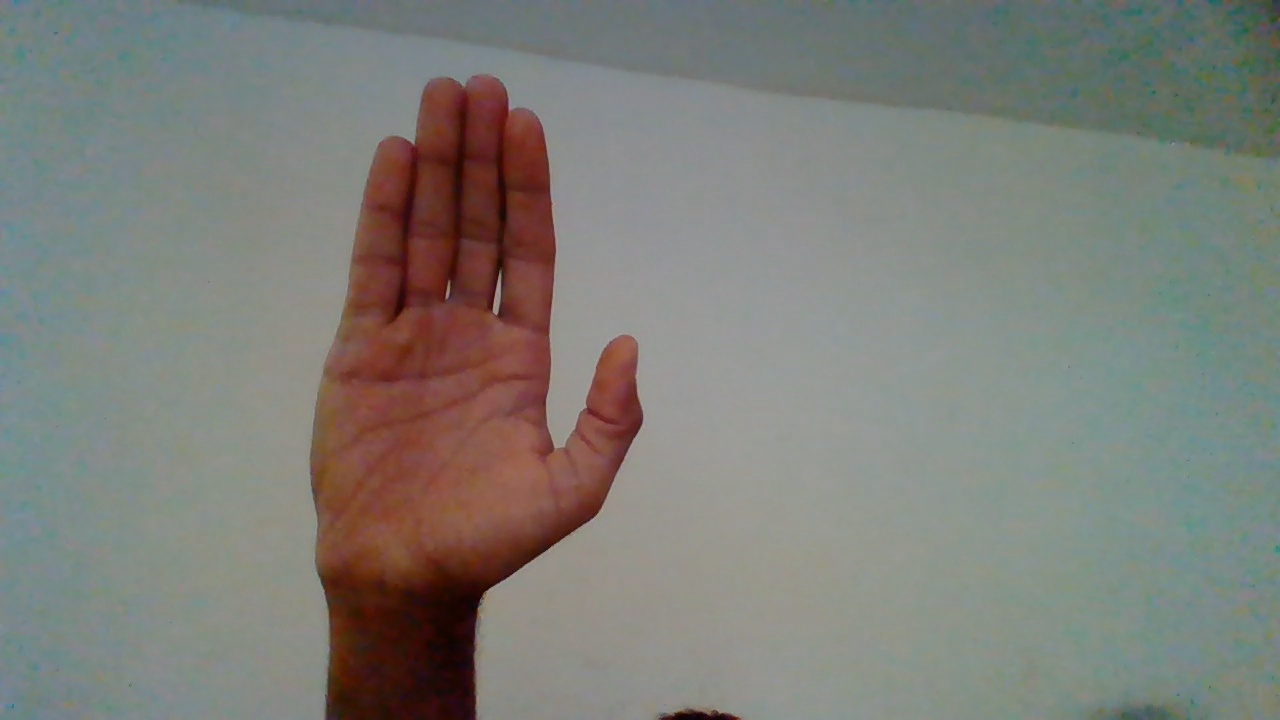ha: (307, 70, 649, 683)
